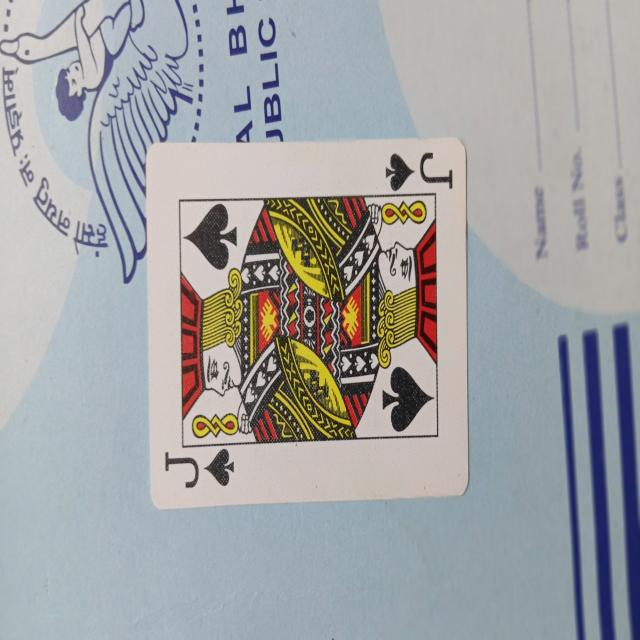JS: (146, 144, 469, 494)
